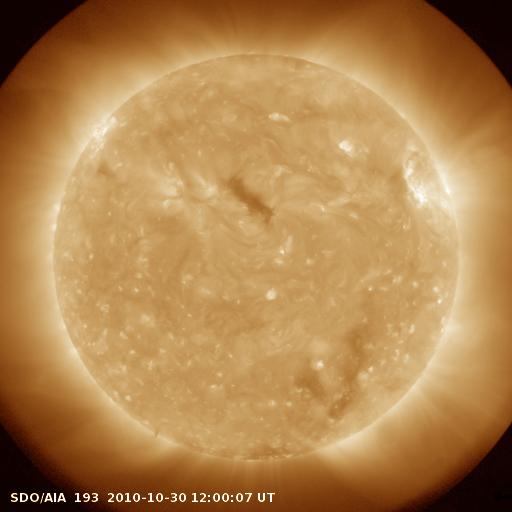coronal_hole: (293, 323, 378, 424), (212, 168, 275, 228)
